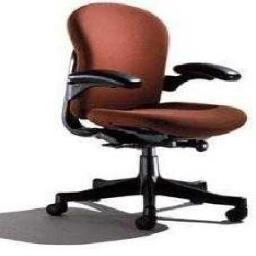Chair: (48, 8, 246, 226)
